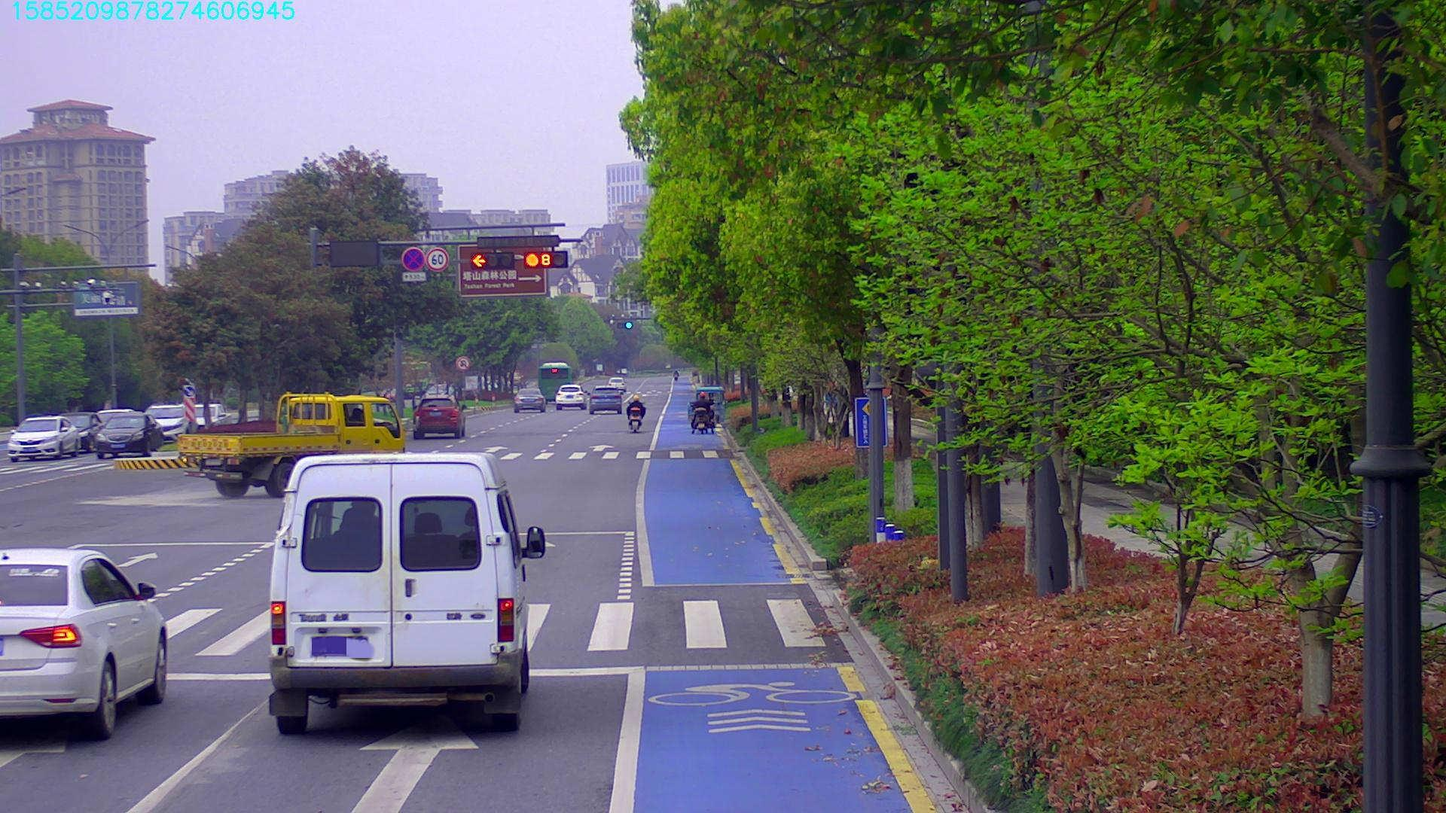red: (523, 252, 569, 273), (474, 252, 511, 270)
